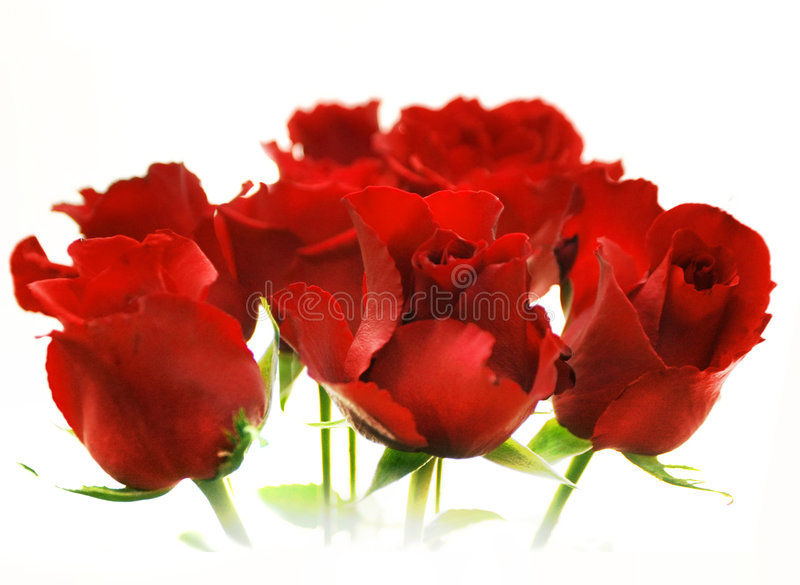RedRose: (5, 216, 272, 499), (324, 170, 558, 476), (571, 173, 773, 479)
